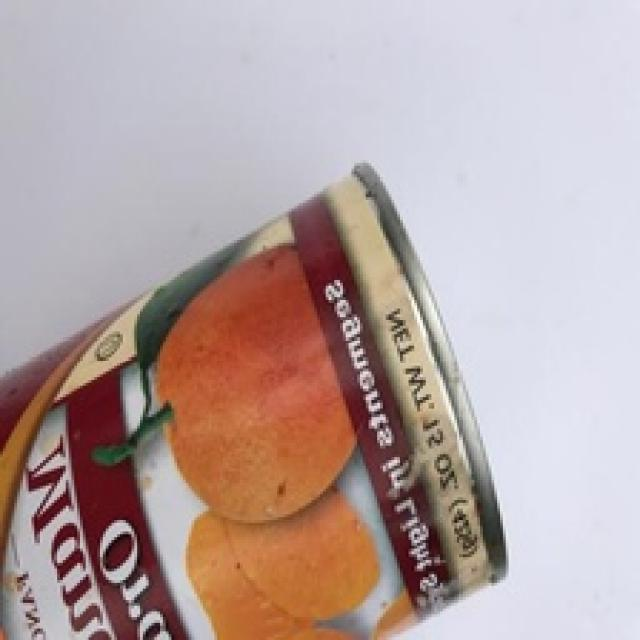metal: (0, 158, 517, 640)
